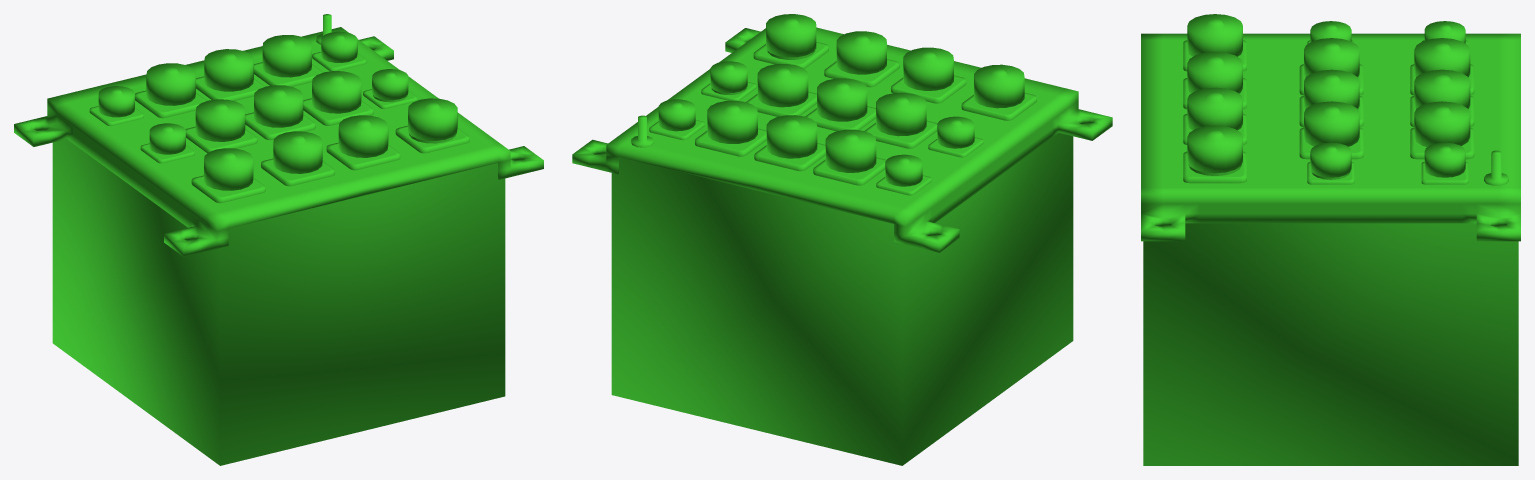
Rendered from Cargo_BYPT.fbx.
3 views of the same model, side by side, from view 1: azimuth 30°, elevation 25°; view 2: azimuth 150°, elevation 25°; view 3: azimuth 270°, elevation 25° (orthographic). The views are drawn at different scales.
Parts seen in each view (by area): view 1: Cargo_BYPT; view 2: Cargo_BYPT; view 3: Cargo_BYPT.
Boxes of the visible parts, x1,y1,x2,y2 form: Cargo_BYPT: [14, 14, 543, 465]; Cargo_BYPT: [572, 14, 1112, 465]; Cargo_BYPT: [1141, 14, 1520, 465].
Size of the model in its own units: 221 by 162 by 180.
